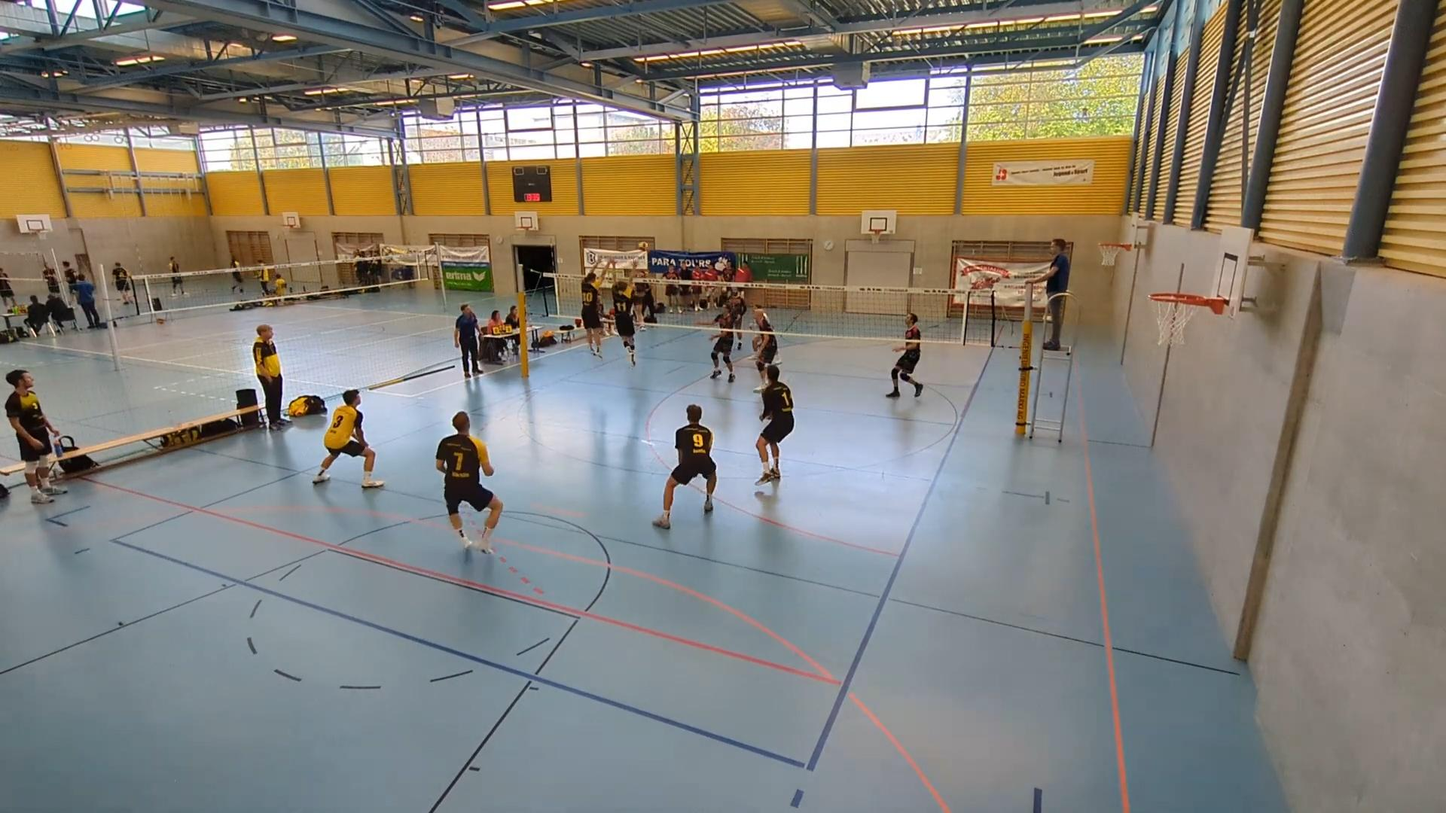Block: (610, 256, 646, 366), (578, 252, 611, 356)
Player: (436, 412, 502, 553), (653, 404, 716, 528), (313, 389, 383, 487), (755, 364, 794, 484), (886, 312, 923, 397), (700, 310, 737, 382), (753, 306, 777, 391), (728, 289, 746, 324)
ball: (634, 240, 650, 253)
